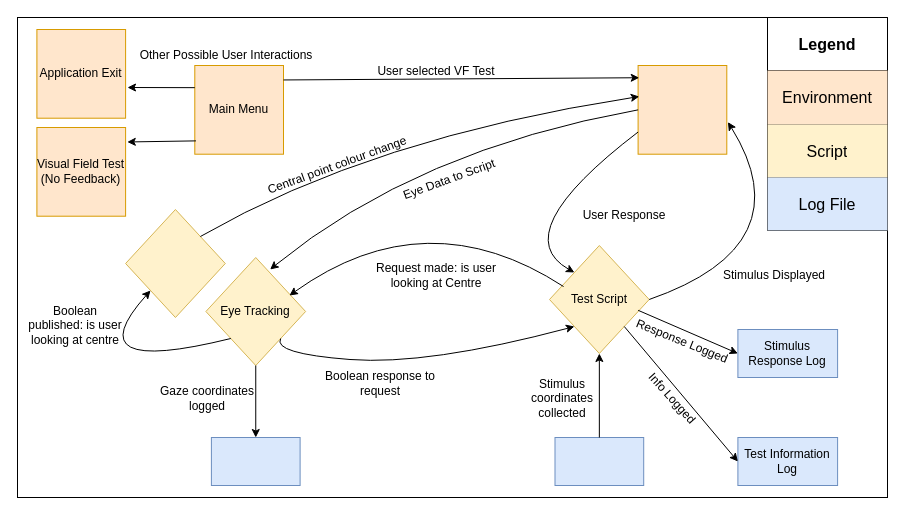
This 905x515 diagram has some shape labels left out. The centre of each missing label's shape, as x and y in pixels:
"Eye Tracking Data Log" belongs at point (255, 461).
"Test File" belongs at point (599, 461).
"Visual Feedback" belongs at point (175, 263).
"Visual Field Test (Feedback)" belongs at point (682, 109).
